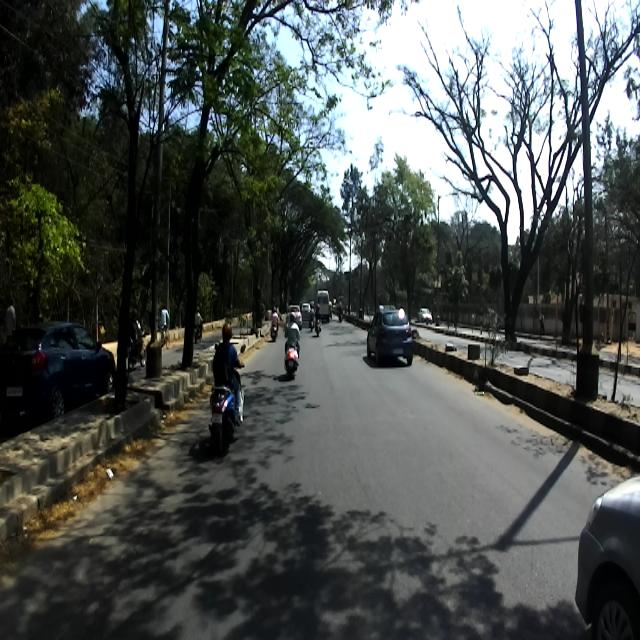car ahead at: (364, 301, 414, 375)
motorcycle ahead at: (205, 381, 248, 454), (280, 339, 300, 378)
